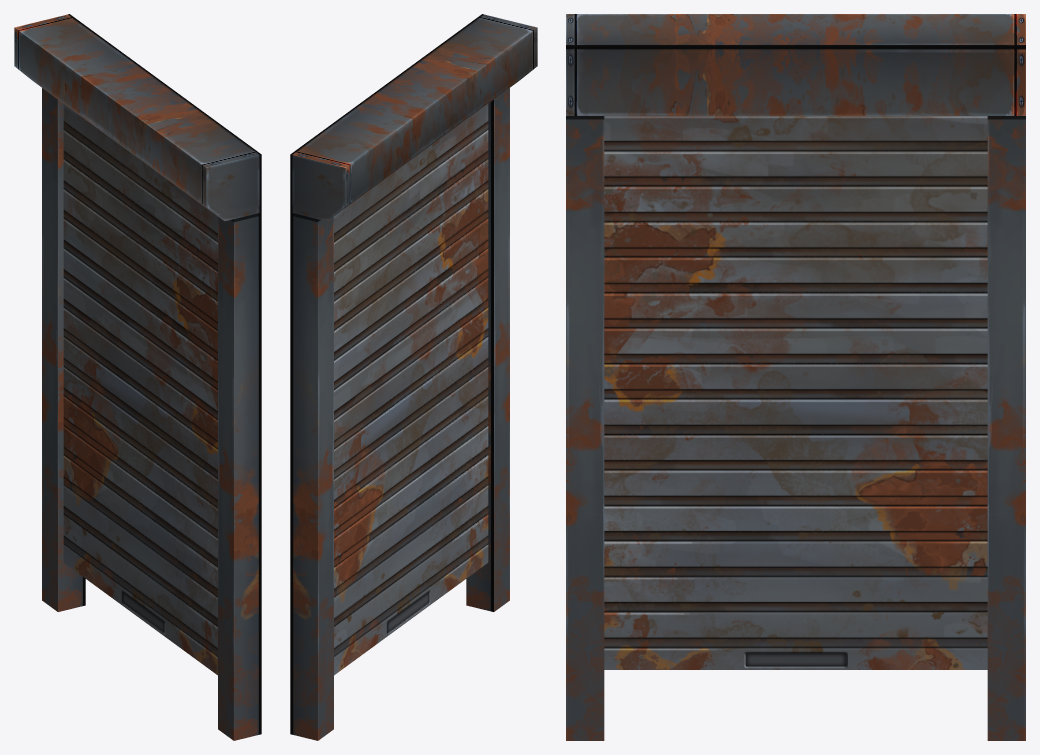
File: rollerShutter02_2m.fbx
The picture shows the model from 3 angles, left to right: view 1: azimuth 30°, elevation 25°; view 2: azimuth 150°, elevation 25°; view 3: azimuth 270°, elevation 25°; orthographic projection. The views are drawn at different scales.
Parts seen in each view (by area): view 1: rollerShutter02_2m; view 2: rollerShutter02_2m; view 3: rollerShutter02_2m.
Part boxes in pixels (left/top/right/bottom): rollerShutter02_2m: left=14, top=14, right=261, bottom=740; rollerShutter02_2m: left=290, top=14, right=537, bottom=740; rollerShutter02_2m: left=566, top=14, right=1025, bottom=740.
Size of the model in its own units: 30 by 300 by 180.
